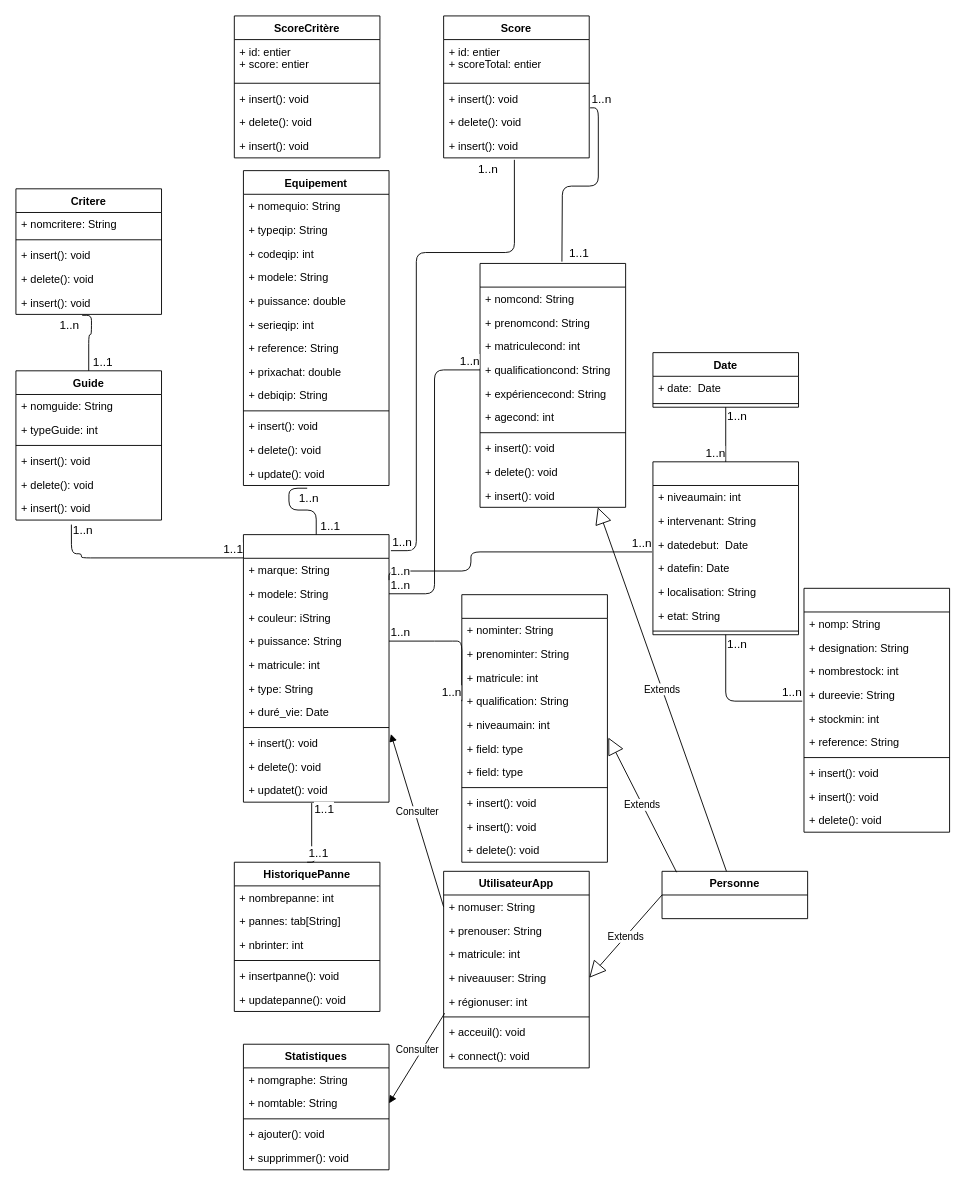
Some shapes in this 966 by 1188 pixel diagram are drawn without their labels. The shapes that lost their labels are listed below. From the top down, each one's box as (x1, y1, x2, y2) in pixels, then its label:
(479, 263, 626, 507): Conducteur
(652, 461, 799, 635): PlanMaintenance
(243, 534, 389, 802): Véhicule
(461, 594, 607, 862): Intervenant
(803, 587, 950, 832): PièceRechange
